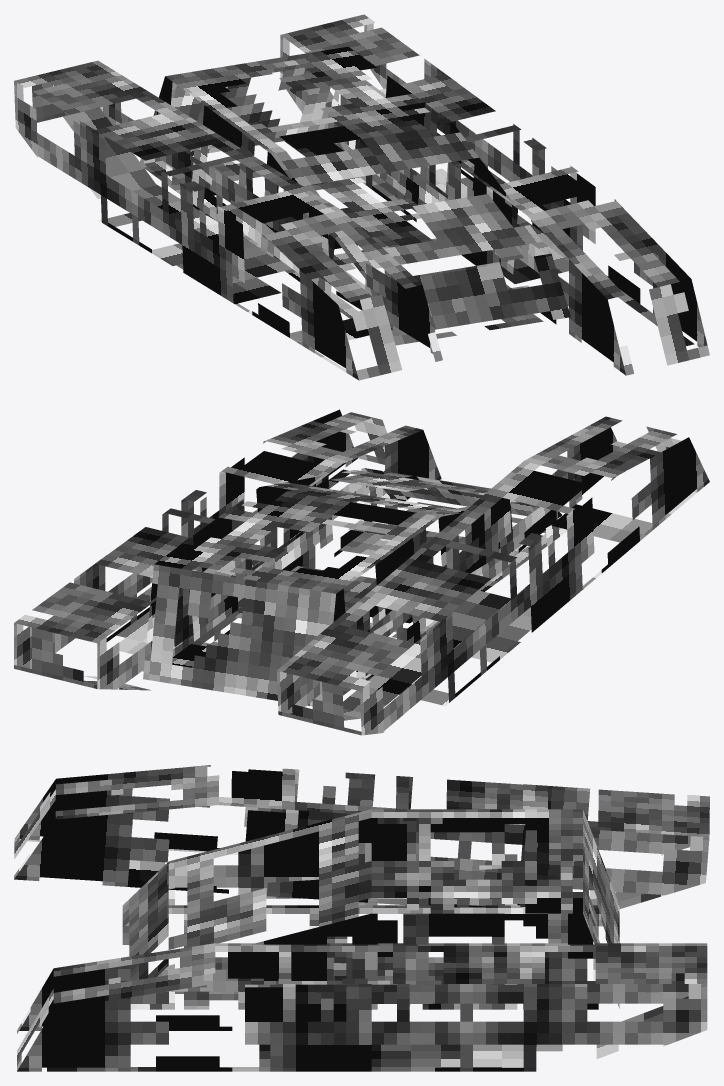
Rendered from storm_wreck.glb.
3 renders of one model, top to bottom at view 1: azimuth 30°, elevation 25°; view 2: azimuth 150°, elevation 25°; view 3: azimuth 270°, elevation 25°, orthographic.
Parts seen in each view (by area): view 1: StormDam; view 2: StormDam; view 3: StormDam.
Part boxes in pixels (left/top/right/bottom): StormDam: left=14, top=14, right=709, bottom=380; StormDam: left=14, top=409, right=709, bottom=735; StormDam: left=14, top=765, right=709, bottom=1071.
Size of the model in its own units: 5.95 by 2.21 by 10.21.
1 material, 1 textured.
